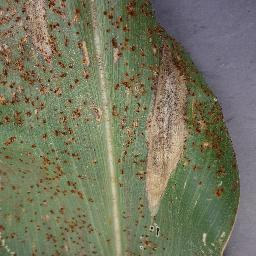Corn_Blight: (0, 0, 103, 256), (103, 0, 202, 137), (104, 137, 200, 196), (202, 76, 239, 197), (119, 196, 171, 256), (198, 228, 231, 256)
